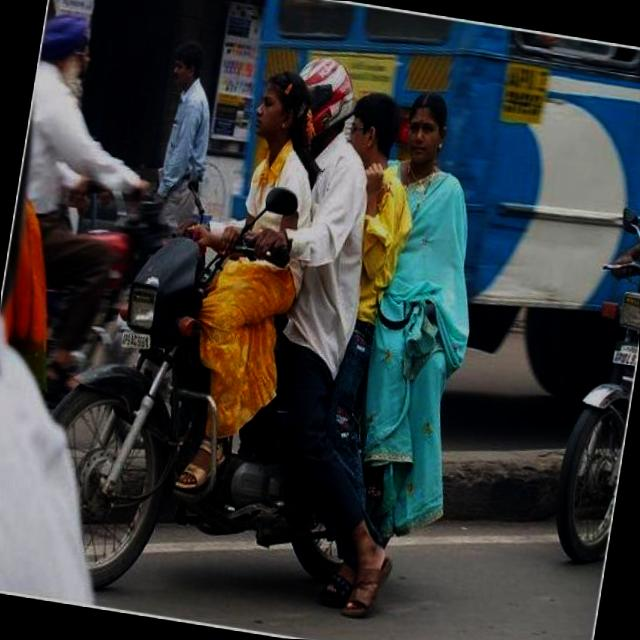motorcycle: (28, 220, 421, 609)
person: (269, 51, 393, 420), (375, 80, 486, 424), (311, 91, 419, 426), (228, 72, 313, 332)
rider_region: (52, 43, 482, 622)
